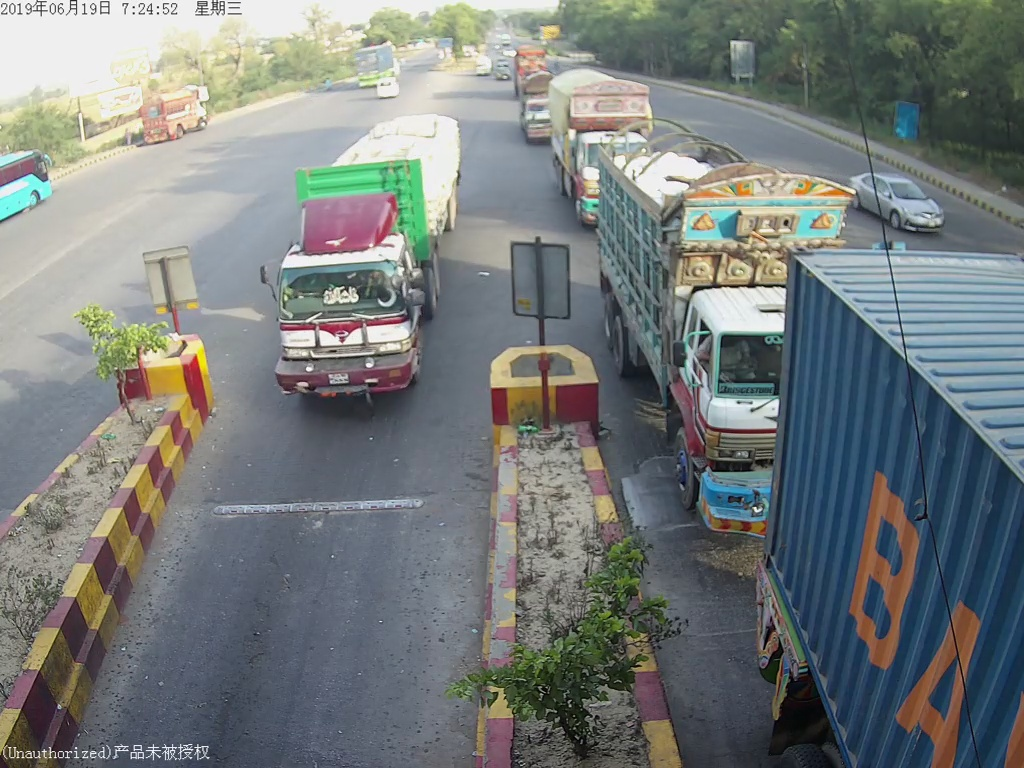Cat-4: (600, 124, 738, 521)
Cat-5: (267, 122, 472, 414)
